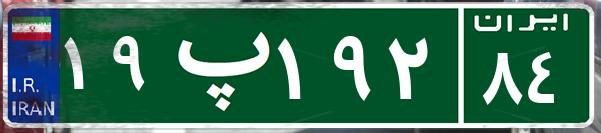1: (273, 28, 330, 110), (57, 26, 110, 107)
2: (385, 28, 445, 110)
4: (525, 38, 570, 115)
8: (475, 38, 525, 113)
9: (330, 28, 385, 110), (110, 28, 158, 105)
پ: (158, 15, 273, 115)
